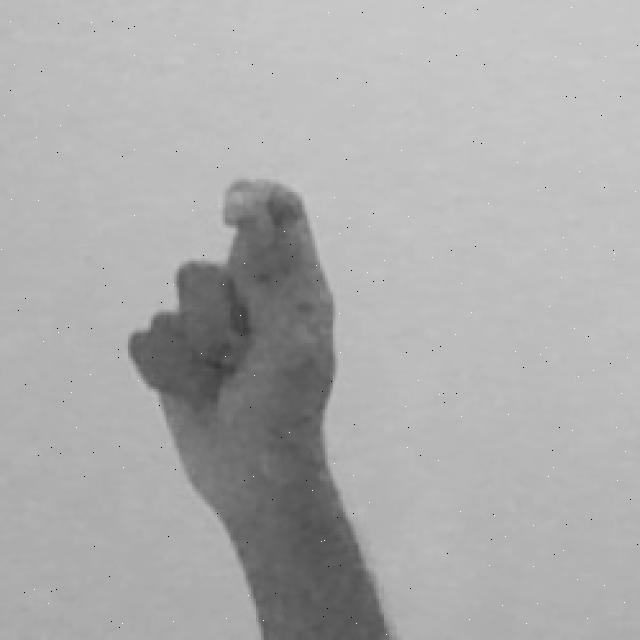T: (124, 173, 401, 640)
